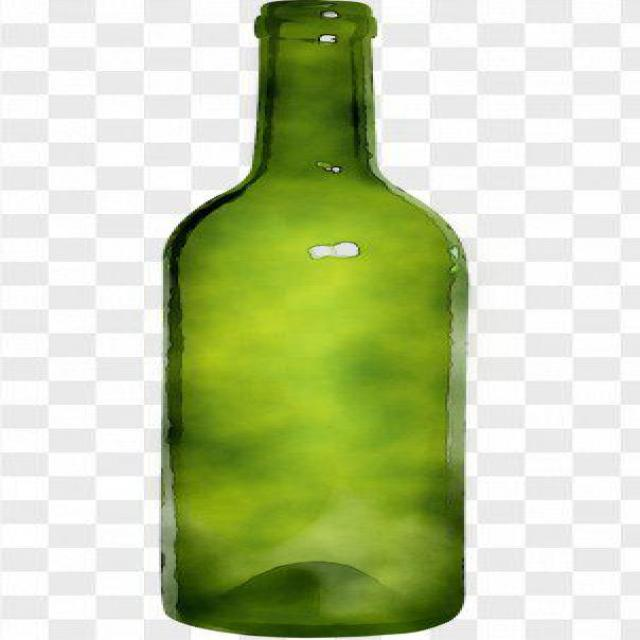non-organic waste: (134, 0, 483, 640)
